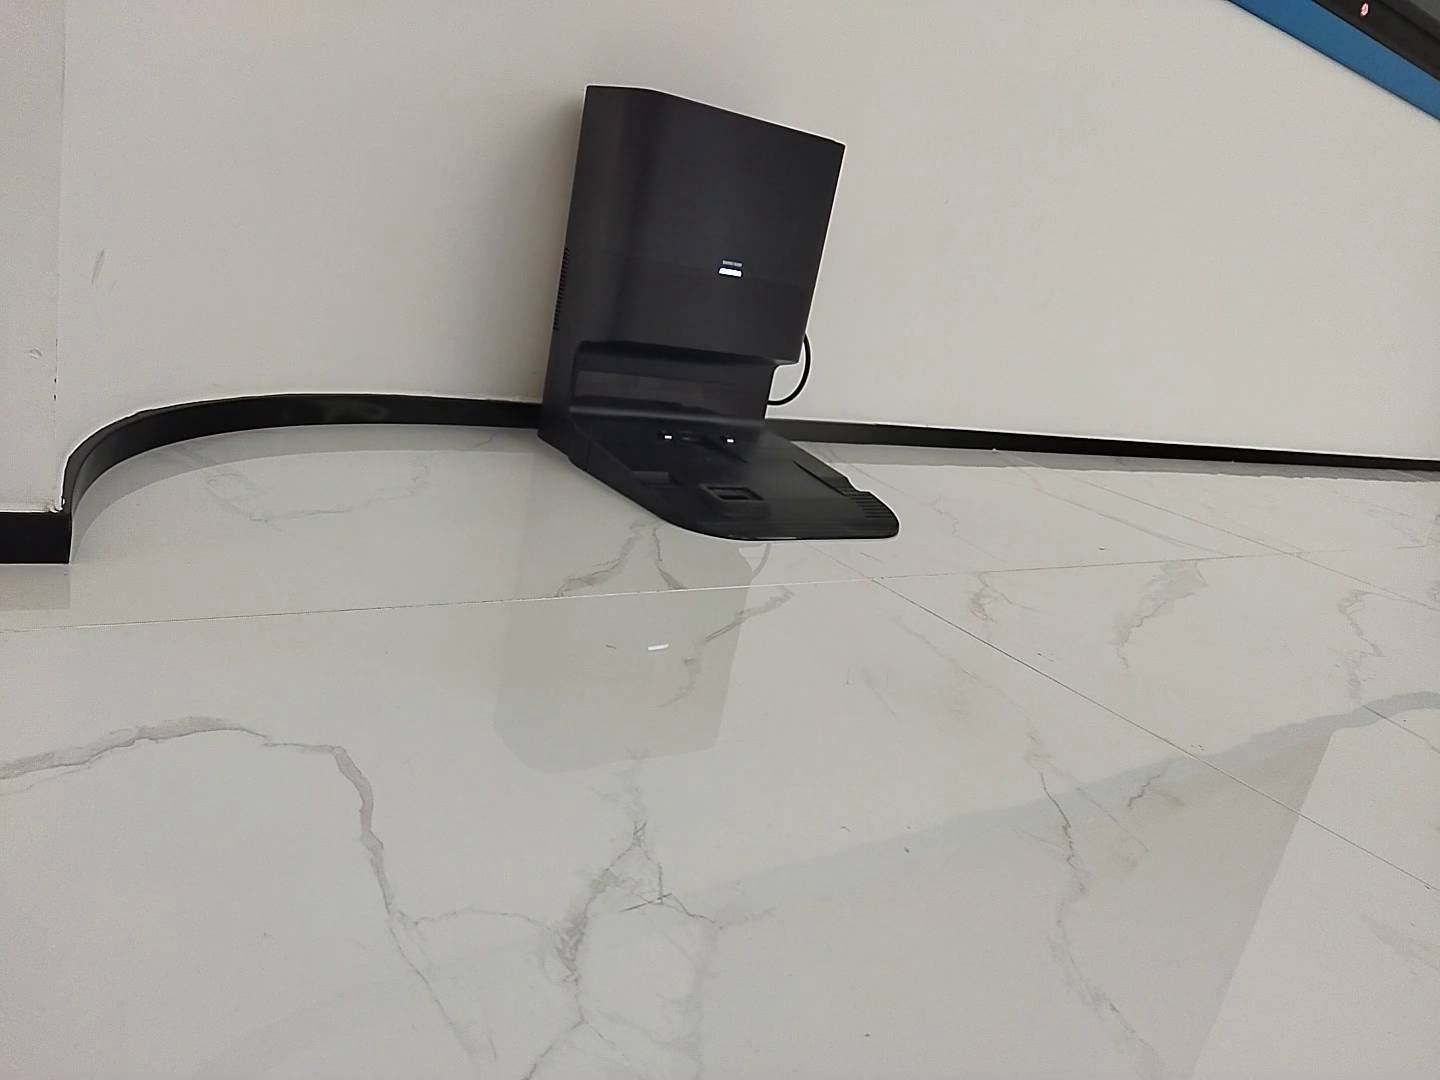dust collecting barrel: (536, 83, 903, 545)
